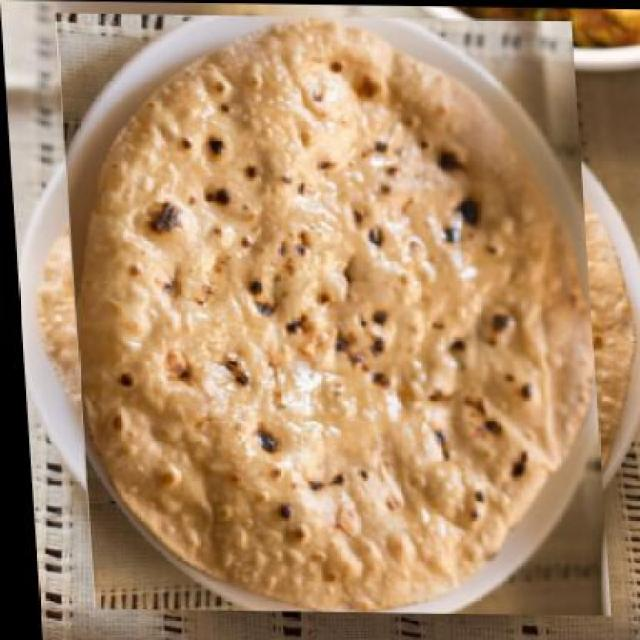chapati: (37, 34, 623, 597)
